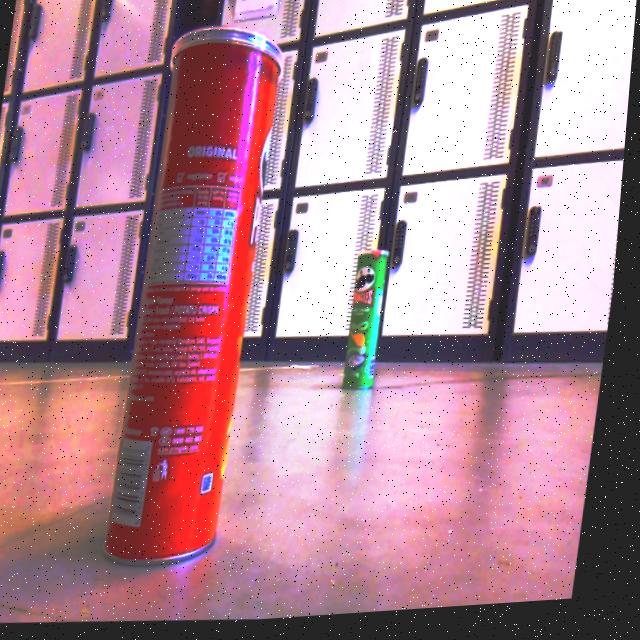greenpringles: (337, 245, 405, 408)
redpringles: (96, 15, 309, 585)
